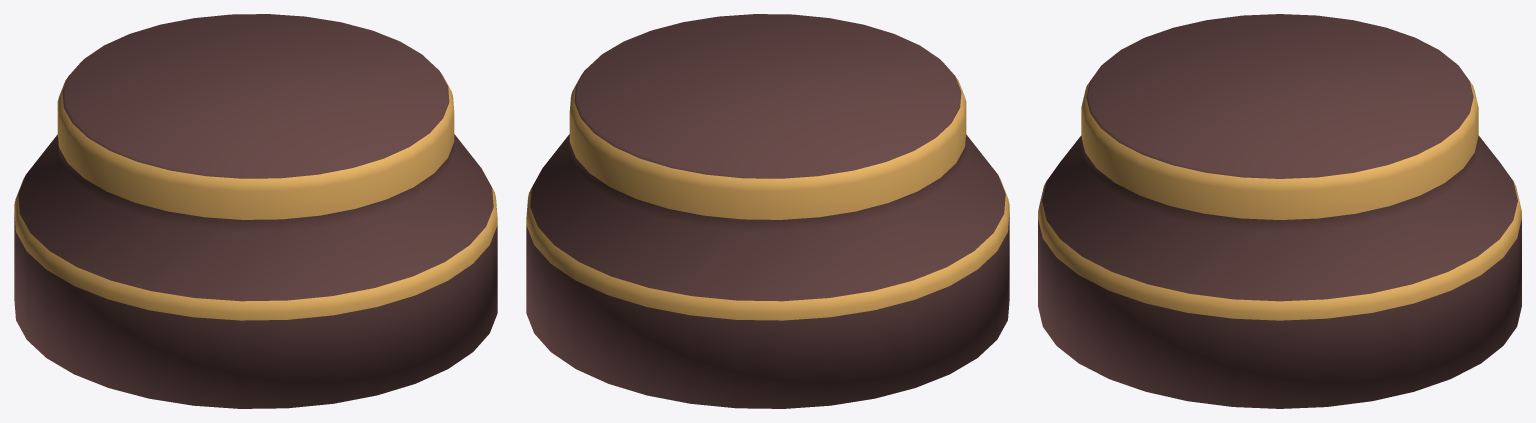
File: tokmak altlığı.fbx
3 views of the same model, side by side, from view 1: azimuth 30°, elevation 25°; view 2: azimuth 150°, elevation 25°; view 3: azimuth 270°, elevation 25° (orthographic).
Parts seen in each view (by area): view 1: Cylinder.001; view 2: Cylinder.001; view 3: Cylinder.001.
Part boxes in pixels (bbox=[...]): Cylinder.001: bbox=[14, 14, 497, 408]; Cylinder.001: bbox=[526, 14, 1009, 408]; Cylinder.001: bbox=[1038, 14, 1521, 408].
Size of the model in its own units: 42.84 by 20.71 by 42.84.
